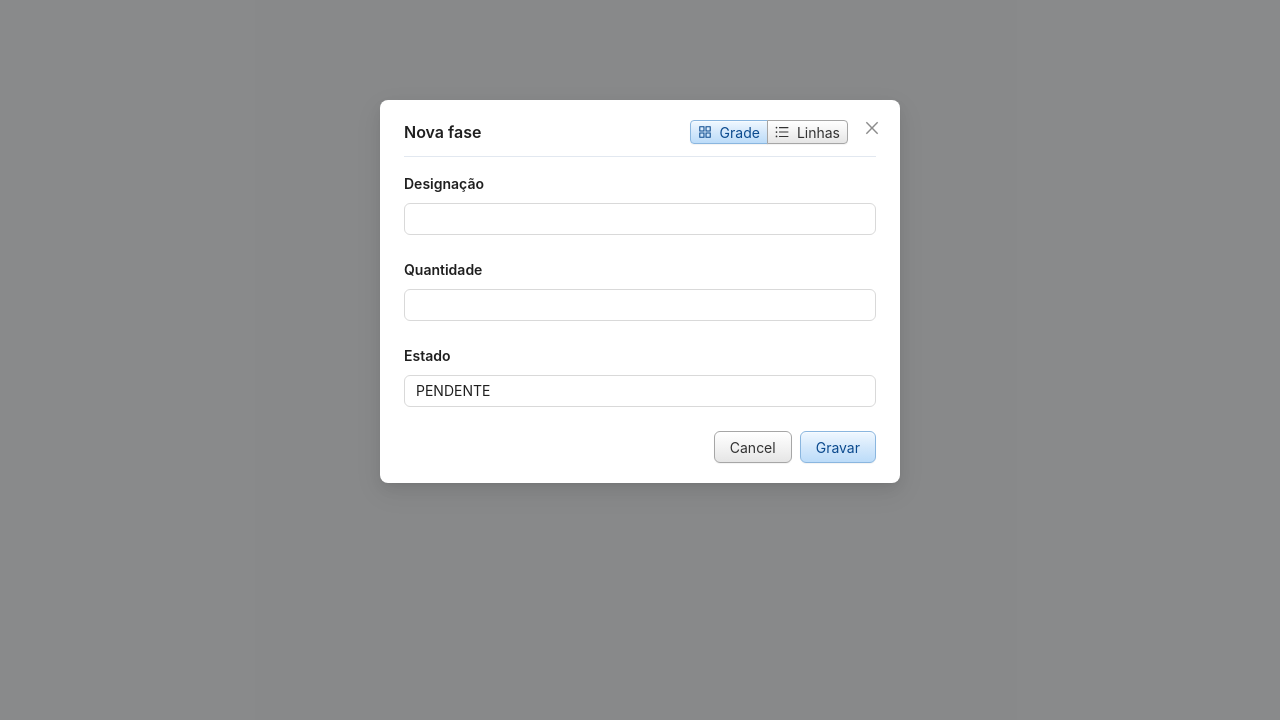
Scenario: ModalFormulario — Grade | Linhas › atalhos: Enter passa à linha seguinte (cria na última), Ctrl+D duplica, Ctrl+Del limpa
Click the button "Linhas" at (807, 132), box [767,120,848,144]
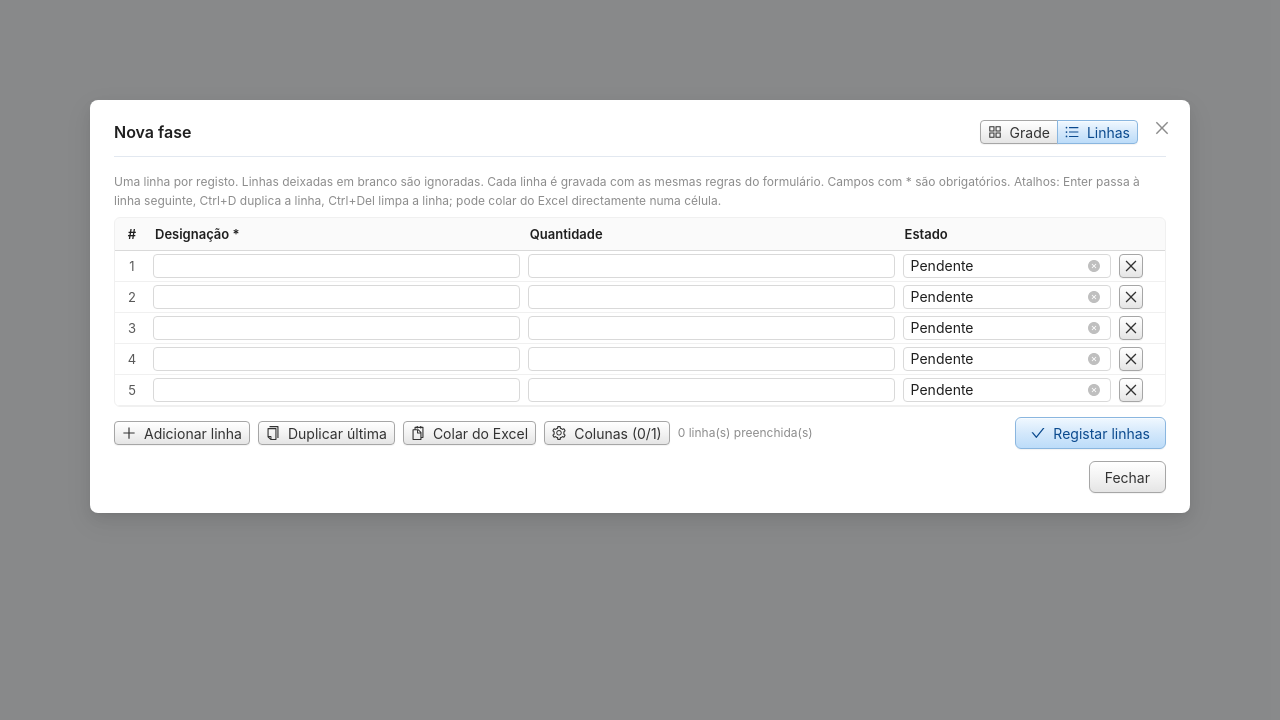
Expected: the element with test id "painel-linhas" is shown, [114,173,1166,449]
Type "A" into the field named "Designação, linha 1" at (336, 266), box [153,254,520,278]
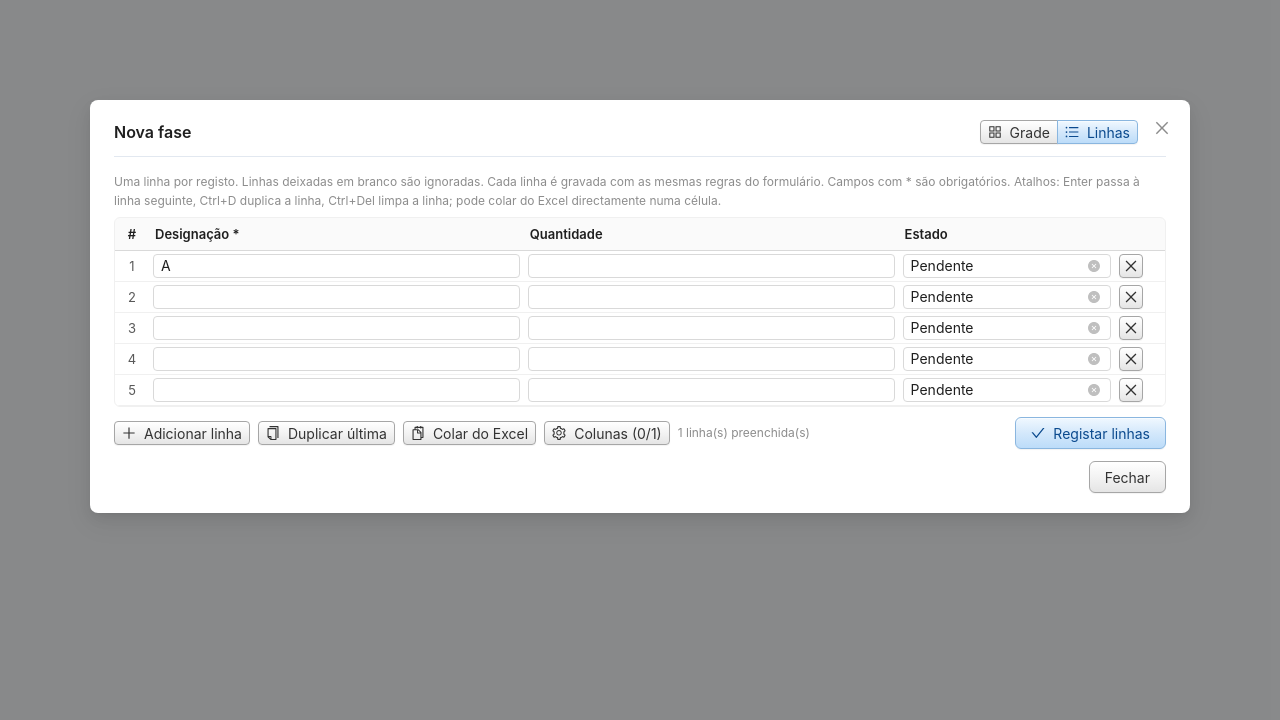
Press d in the field named "Designação, linha 1", box [153,254,520,278]
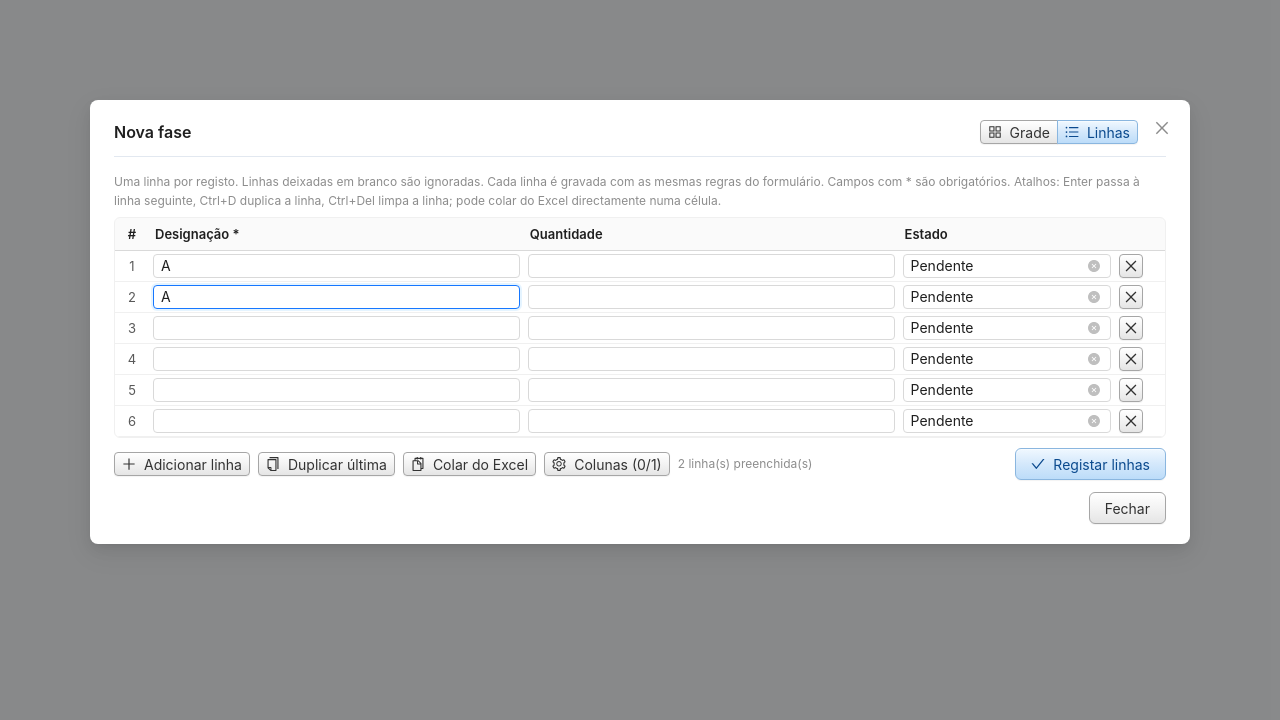
Expected: the number of rows with test id "linha-formulario" is 6, [115,251,1165,282]; [115,282,1165,313]; [115,313,1165,344]; [115,344,1165,375]; [115,375,1165,406]; [115,406,1165,437]
Press Delete in the field named "Designação, linha 2", box [153,285,520,309]
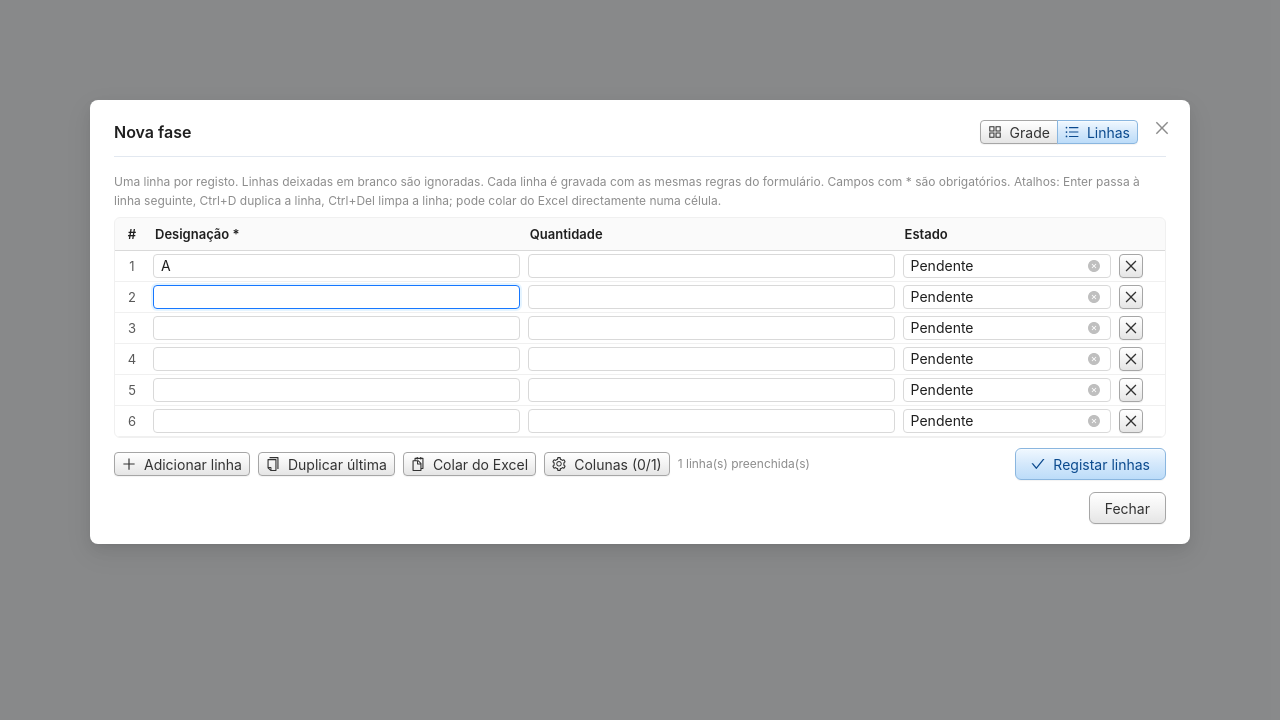
Press Enter in the field named "Designação, linha 1", box [153,254,520,278]
Press Enter in the field named "Designação, linha 6", box [153,409,520,433]
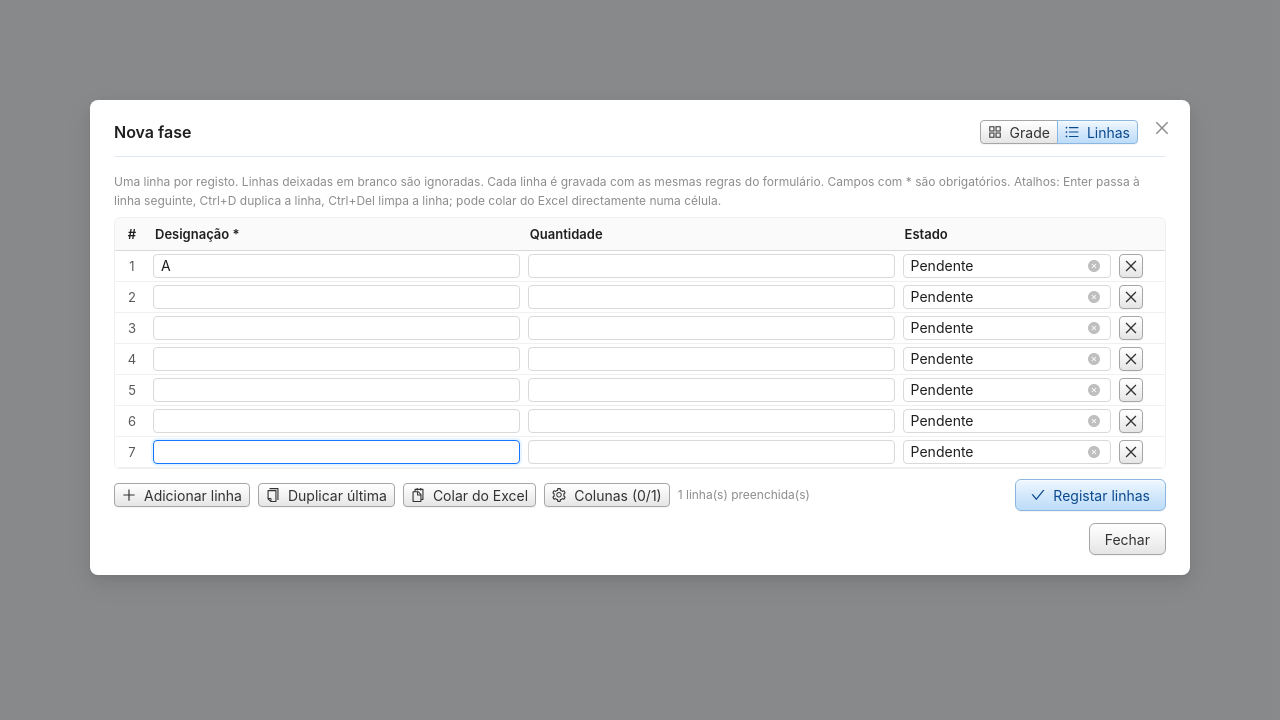
Expected: the number of rows with test id "linha-formulario" is 7
